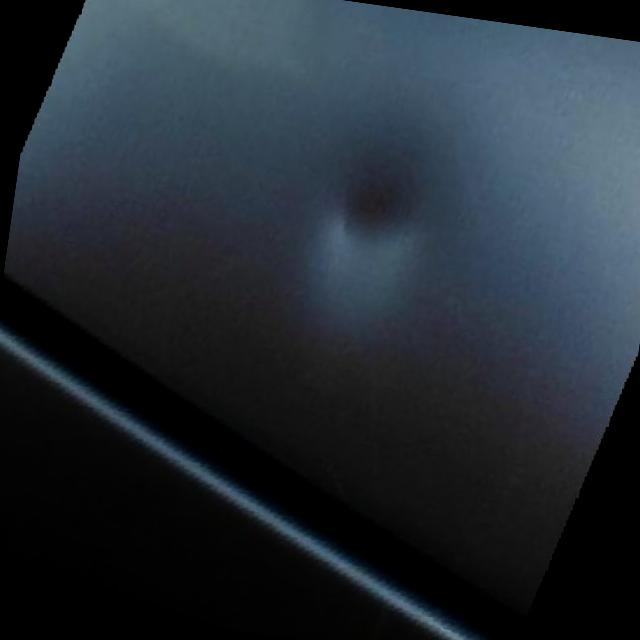dent: (312, 140, 444, 272)
